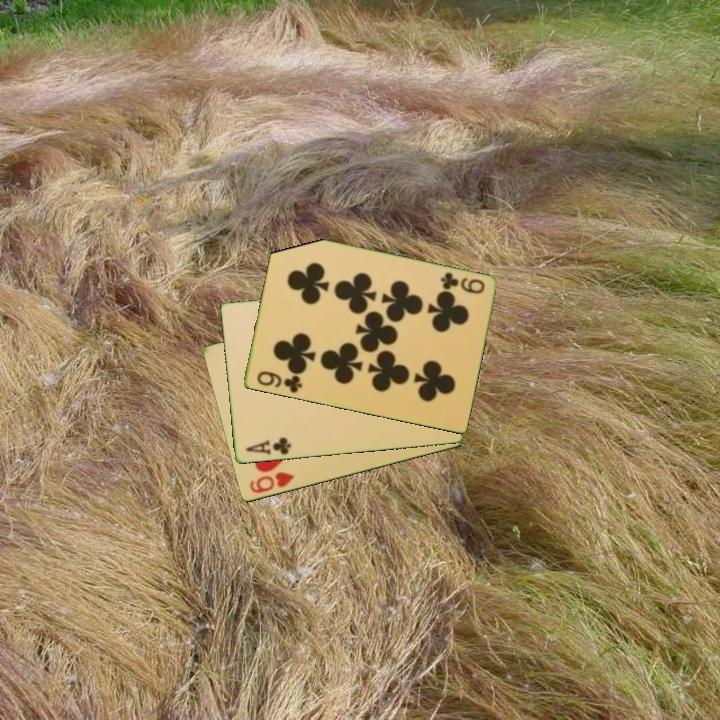6h: (246, 469, 297, 496)
9c: (253, 368, 305, 396), (437, 269, 487, 297)
Ac: (242, 434, 294, 458)
